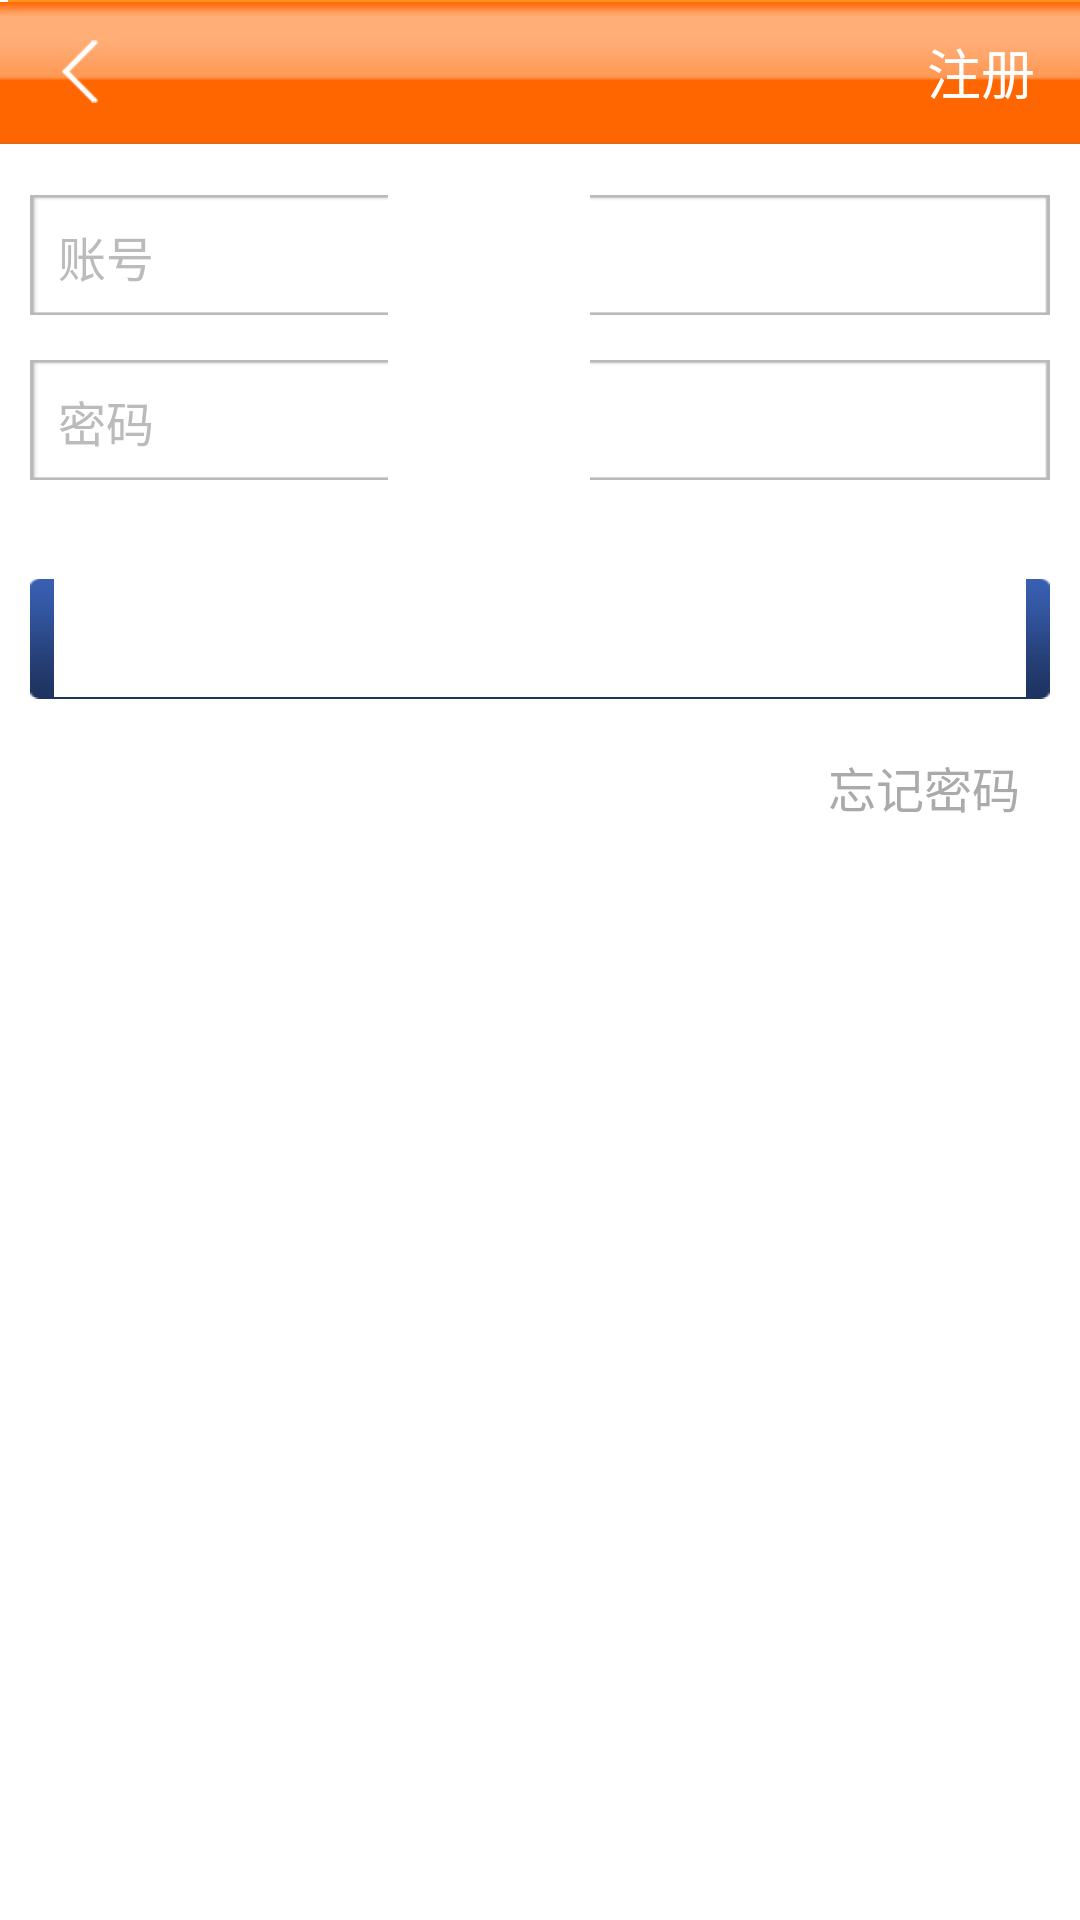

Where to tap for icons on this 1080x1920 app screen, as (x=x, y=y):
back: (x=80, y=71)
